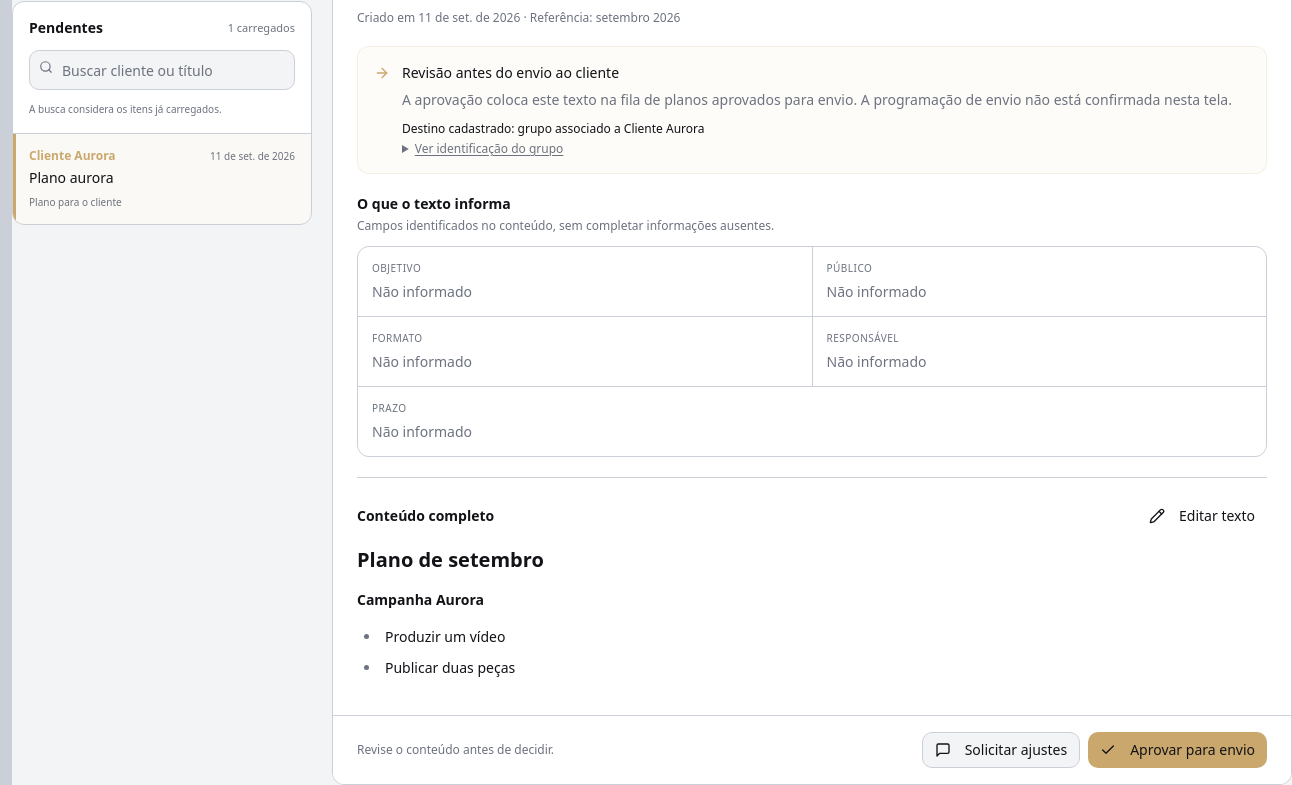
Scenario: Destino e confirmação da aprovação › não informa sucesso nem remove o conteúdo quando a gravação tem empty
(page scrolled)
Click the button "Aprovar para envio".
click(1178, 750)  # box 1088,732 -> 1267,768
(page scrolled)
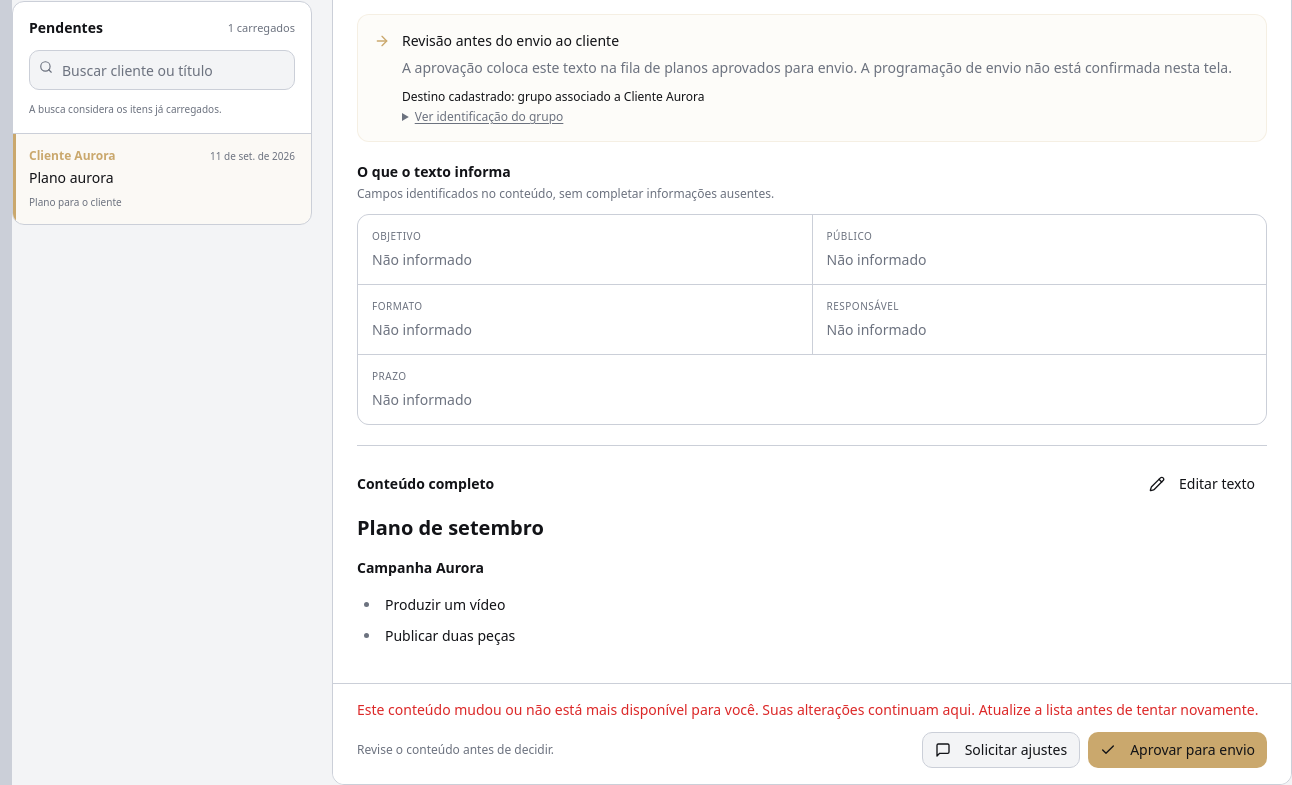
Result: the message is shown at 357,700 -> 1267,720
